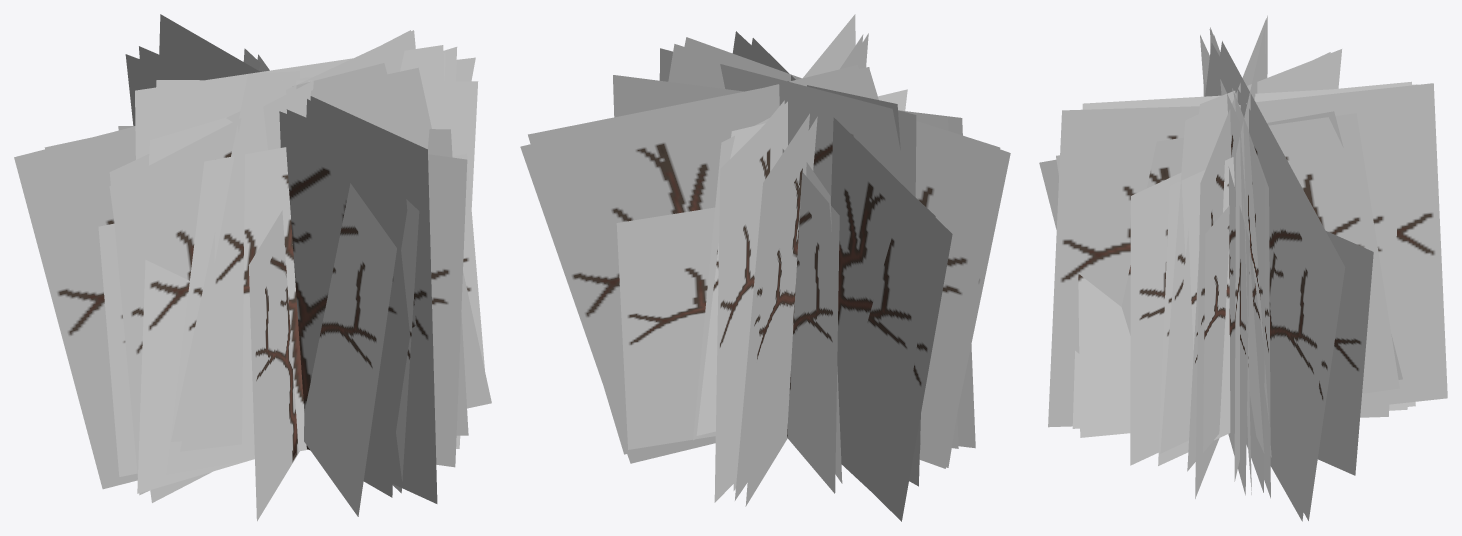
Rendered from ST_bush_v1.fbx.
The picture shows the model from 3 angles, left to right: view 1: azimuth 30°, elevation 25°; view 2: azimuth 150°, elevation 25°; view 3: azimuth 270°, elevation 25°; orthographic projection. The views are drawn at different scales.
Visible parts, largest first — view 1: polySurface29, polySurface26, polySurface27; view 2: polySurface29, polySurface27, polySurface26; view 3: polySurface29, polySurface26, polySurface27.
Part boxes in pixels (left/top/right/bottom): polySurface29: left=14, top=14, right=491, bottom=521; polySurface26: left=125, top=46, right=419, bottom=516; polySurface27: left=109, top=30, right=478, bottom=502; polySurface29: left=520, top=14, right=975, bottom=521; polySurface27: left=659, top=37, right=1010, bottom=468; polySurface26: left=693, top=33, right=907, bottom=506; polySurface29: left=1048, top=27, right=1447, bottom=521; polySurface26: left=1039, top=81, right=1417, bottom=437; polySurface27: left=1195, top=15, right=1271, bottom=498.
Bounding box in the file's own units: 132 × 120 × 112.
